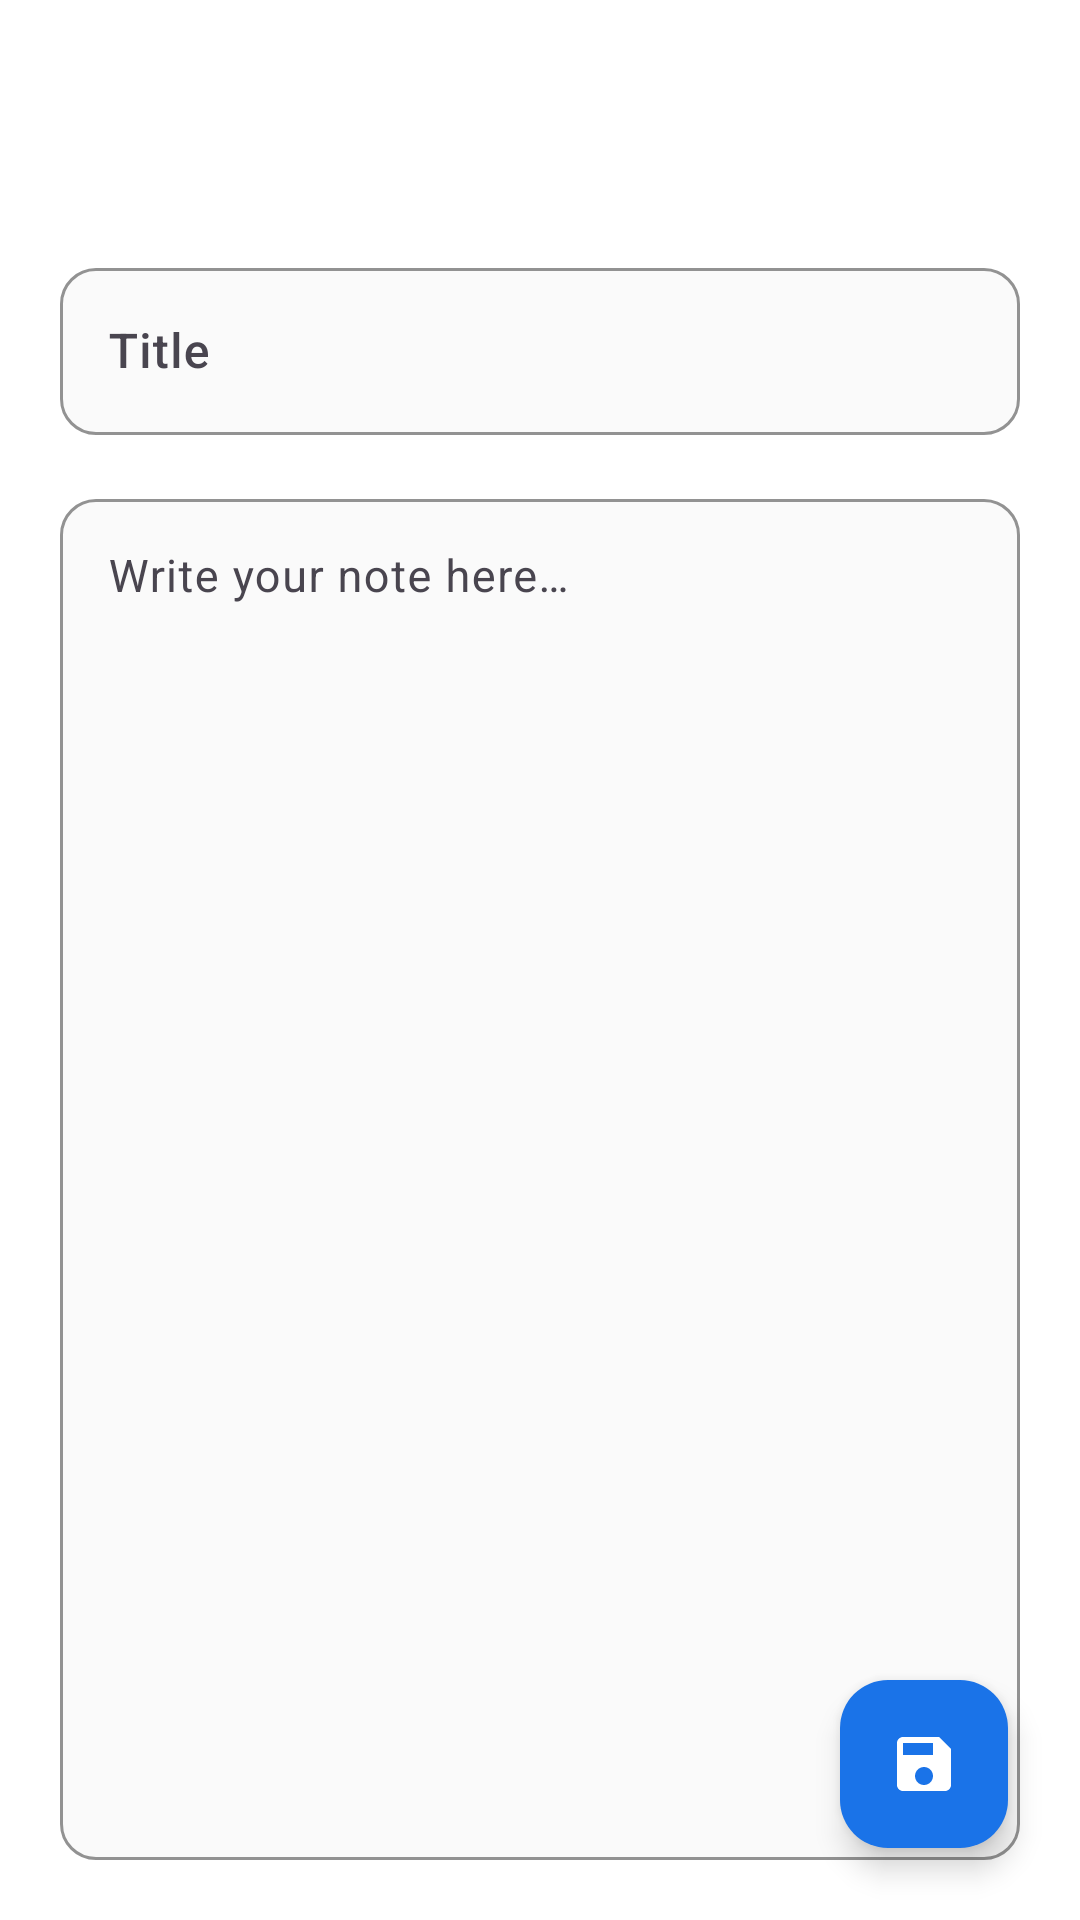

Icon click points for this 1080 × 1920 phone screenshot, format (x=x, y=y):
Save Note: (x=924, y=1764)
